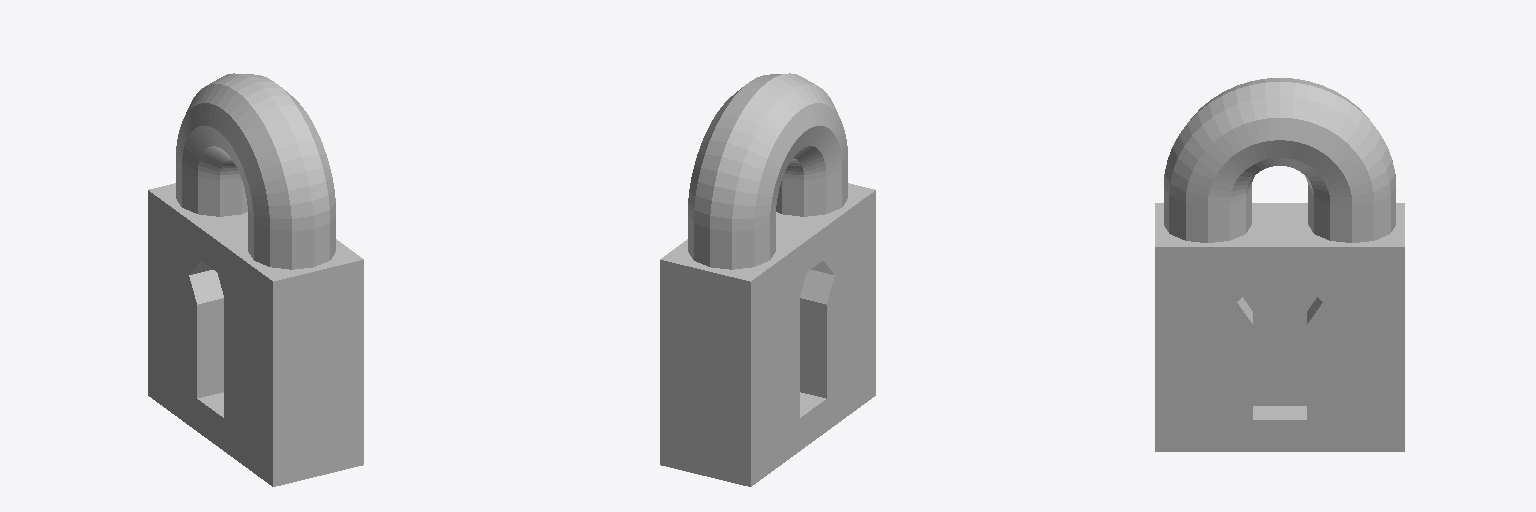
File: LockGate.obj
3 views of the same model, side by side, from view 1: azimuth 30°, elevation 25°; view 2: azimuth 150°, elevation 25°; view 3: azimuth 270°, elevation 25° (orthographic).
Visible parts, largest first — view 1: Cube.009_Cube.002; view 2: Cube.009_Cube.002; view 3: Cube.009_Cube.002.
Part boxes in pixels (x1,y1,x2,y2): Cube.009_Cube.002: (148,73,363,486); Cube.009_Cube.002: (660,73,875,486); Cube.009_Cube.002: (1155,78,1404,451).
Size of the model in its own units: 1.31 by 4.8 by 3.13.